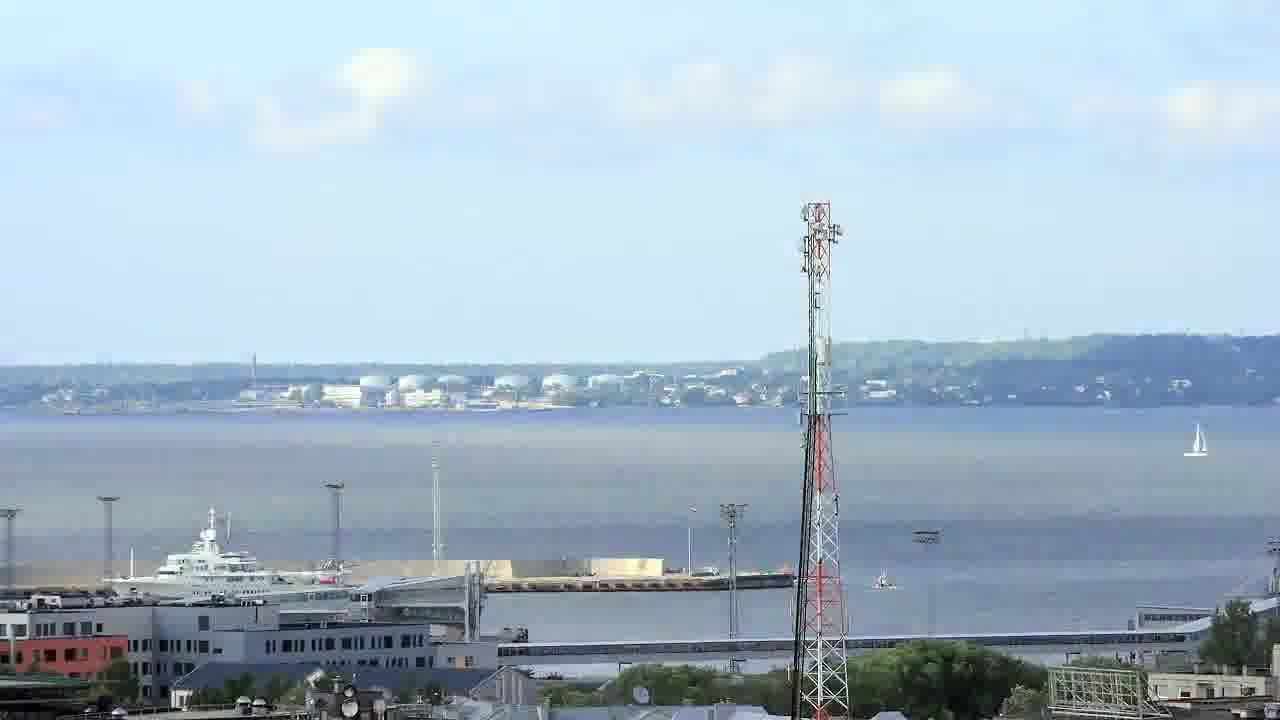type-0: (862, 556, 906, 604)
type-2: (1165, 408, 1219, 467)
type-3: (84, 515, 355, 603)
